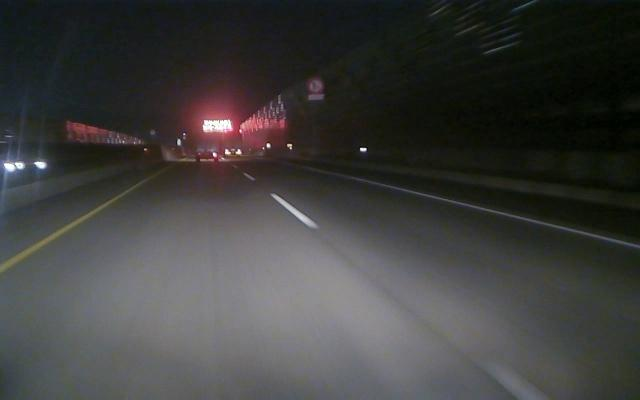lane: (351, 178, 639, 251), (1, 201, 111, 272), (245, 172, 320, 228)
